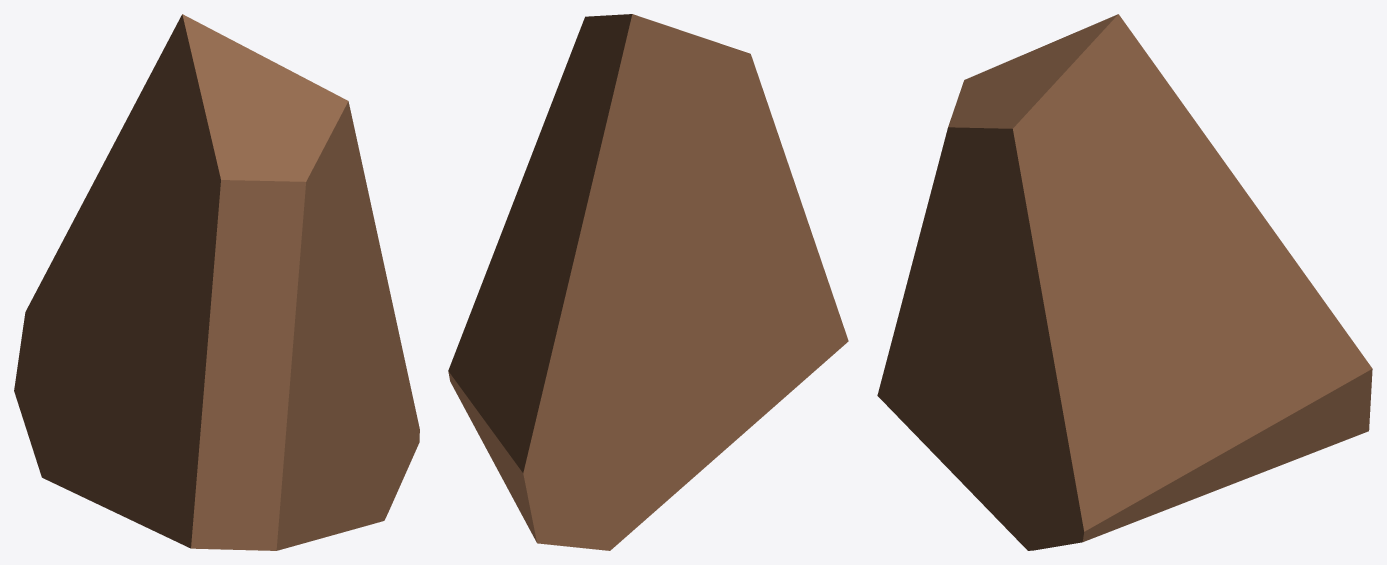
Rendered from WoodCellCube_003_cell_043.fbx.
3 views of the same model, side by side, from view 1: azimuth 30°, elevation 25°; view 2: azimuth 150°, elevation 25°; view 3: azimuth 270°, elevation 25° (orthographic). The views are drawn at different scales.
Parts seen in each view (by area): view 1: WoodCellCube_003_cell_043; view 2: WoodCellCube_003_cell_043; view 3: WoodCellCube_003_cell_043.
Boxes of the visible parts, x1,y1,x2,y2 form: WoodCellCube_003_cell_043: (14, 14, 419, 550); WoodCellCube_003_cell_043: (448, 14, 848, 550); WoodCellCube_003_cell_043: (877, 14, 1372, 550).
Size of the model in its own units: 0.2719 by 0.2845 by 0.1941.
1 material, 1 textured.
